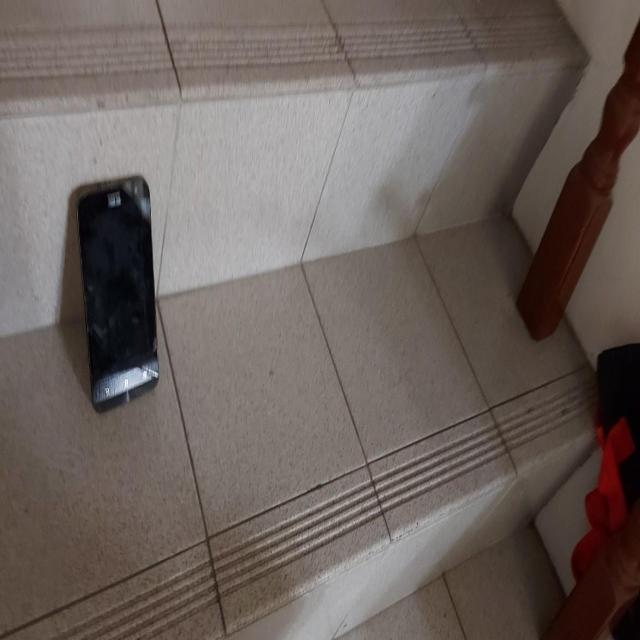Smartphone: (78, 177, 163, 408)
